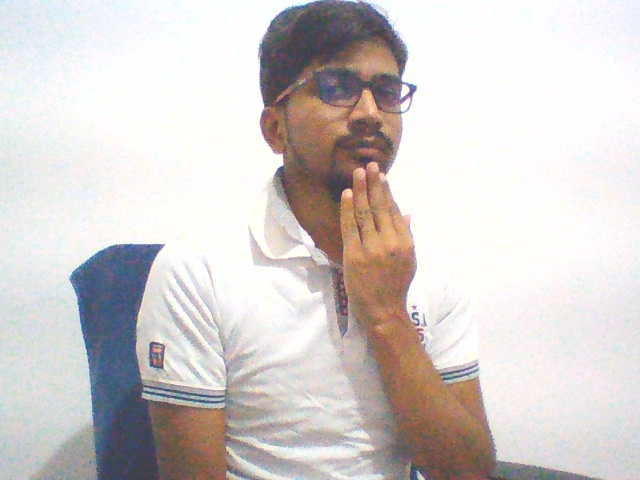mango: (332, 157, 428, 337)
